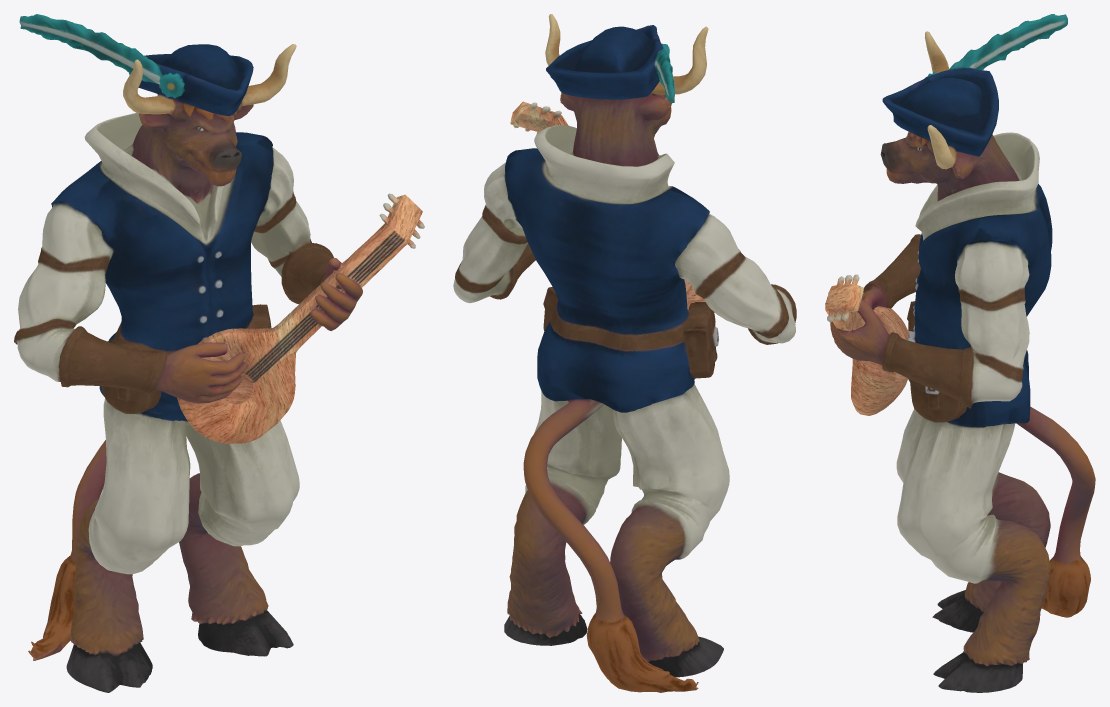
Rendered from MZ4250 - Minotaur Male Bard.glb.
3 views of the same model, side by side, from view 1: azimuth 30°, elevation 25°; view 2: azimuth 150°, elevation 25°; view 3: azimuth 270°, elevation 25° (orthographic). The views are drawn at different scales.
Visible parts, largest first — view 1: Minotaur Male Bard_low.001; view 2: Minotaur Male Bard_low.001; view 3: Minotaur Male Bard_low.001.
Part boxes in pixels (x1,y1,x2,y2): Minotaur Male Bard_low.001: (14, 14, 424, 692); Minotaur Male Bard_low.001: (453, 14, 796, 692); Minotaur Male Bard_low.001: (825, 14, 1095, 692).
Size of the model in its own units: 1.38 by 2.42 by 1.01.
Materials: 1 (1 with a texture image).
